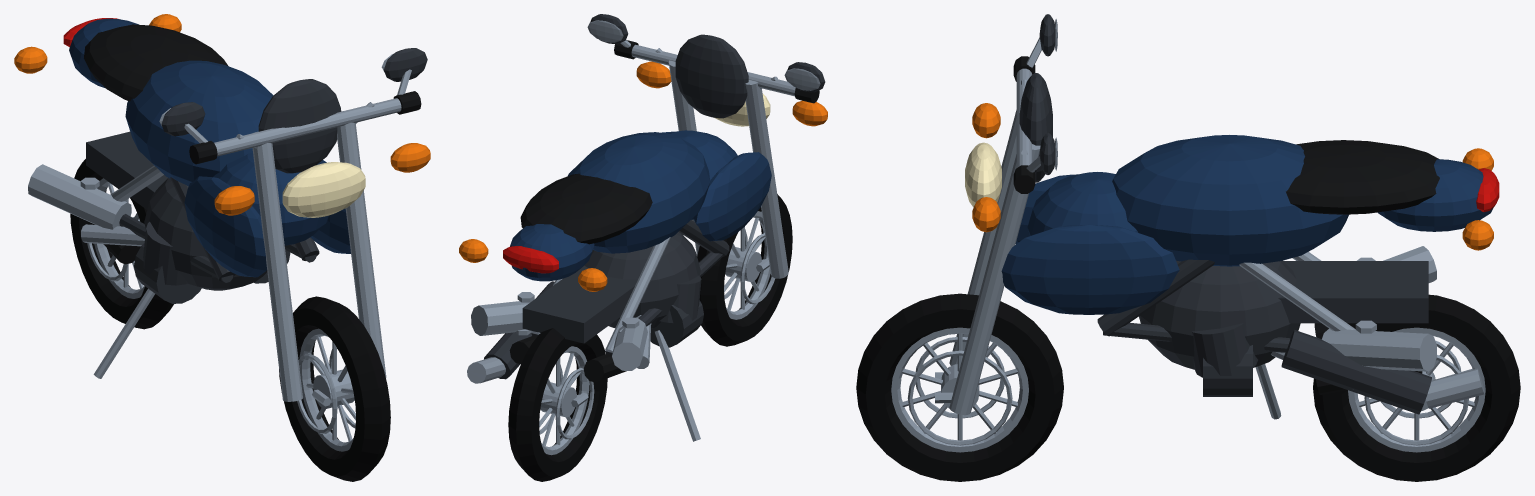
Rendered from AarisRoadBike.obj.
3 views of the same model, side by side, from view 1: azimuth 30°, elevation 25°; view 2: azimuth 150°, elevation 25°; view 3: azimuth 270°, elevation 25° (orthographic). The views are drawn at different scales.
Parts seen in each view (by area): view 1: AarisRoadBike; view 2: AarisRoadBike; view 3: AarisRoadBike.
Part boxes in pixels (x1,y1,x2,y2): AarisRoadBike: (14, 14, 430, 481); AarisRoadBike: (459, 14, 827, 481); AarisRoadBike: (856, 14, 1520, 481).
Size of the model in its own units: 1.15 by 1.53 by 2.27.
